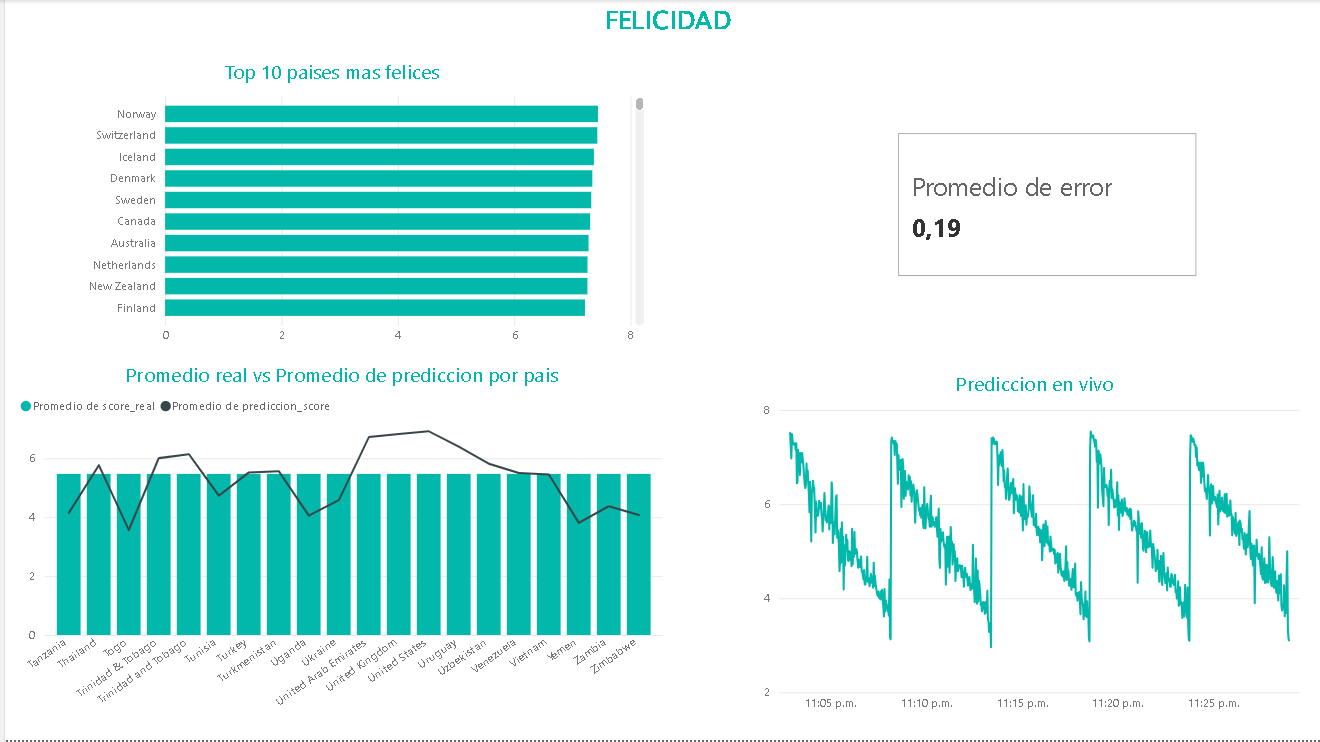

The dashboard page shown, as its layout file describes it:
{"tool":"powerbi","page":{"name":"Página 1","canvas":[1280,720],"ordinal":0},"visuals":[{"type":"textbox","box":[9.7,0,1270.3,42.8],"z":0},{"type":"cardVisual","fields":{"Data":["Avg(public predicciones_felicidad_v2.error_prediccion)"]},"box":[863.7,124.5,300.5,149.8],"z":1},{"type":"clusteredBarChart","title":"Top 10 paises mas felices","fields":{"Category":["public predicciones_felicidad.pais"],"Y":["Avg(public predicciones_felicidad.prediccion_score)"]},"box":[9.7,56.4,616.7,286],"z":2},{"type":"lineChart","title":"Prediccion en vivo","fields":{"Category":["public predicciones_felicidad.fecha_registro"],"Y":["Avg(public predicciones_felicidad.prediccion_score)"]},"box":[722.7,359.9,557.3,340.4],"z":4},{"type":"lineClusteredColumnComboChart","title":"Promedio real vs Promedio de prediccion por pais","fields":{"Category":["public predicciones_felicidad.pais"],"Y":["Avg(public predicciones_felicidad_v2.score_real)"],"Y2":["Avg(public predicciones_felicidad.prediccion_score)"]},"box":[9.7,351.1,635.1,349.2],"z":5}]}

Visuals, with their boxes in screenshot pixels (x1, y1, x2, y2), scaled from the page's 1280x720 canvas onto the 1320x742 screenshot:
textbox: <box>10,0,1319,44</box>
cardVisual - Avg(public predicciones_felicidad_v2.error_prediccion): <box>891,128,1201,283</box>
"Top 10 paises mas felices" clusteredBarChart: <box>10,58,646,353</box>
"Prediccion en vivo" lineChart: <box>745,371,1319,722</box>
"Promedio real vs Promedio de prediccion por pais" lineClusteredColumnComboChart: <box>10,362,665,722</box>
